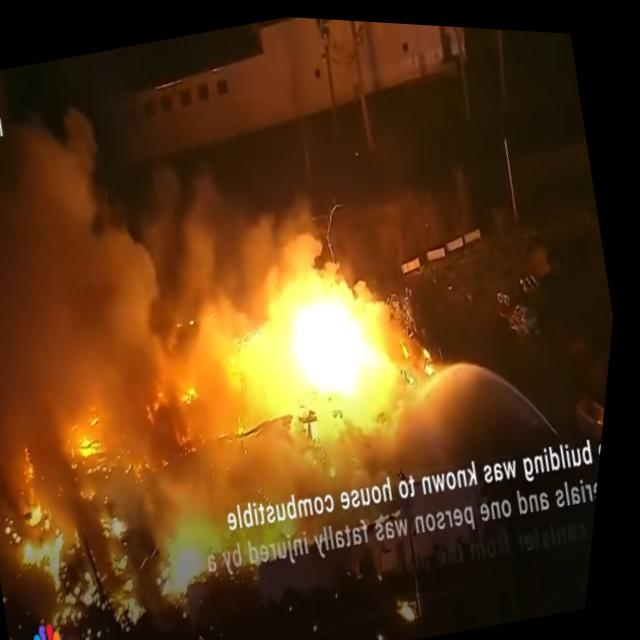Fire: (144, 236, 355, 498), (186, 302, 445, 499), (237, 278, 406, 442), (15, 503, 75, 578), (163, 531, 221, 599), (79, 419, 109, 461), (111, 502, 143, 538)
